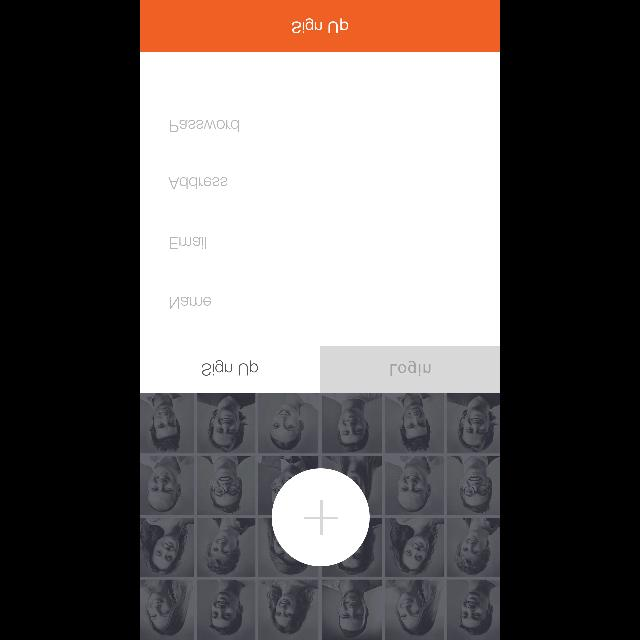icon: (272, 468, 370, 566)
image: (140, 393, 500, 639)
input: (170, 228, 500, 250), (170, 110, 500, 132), (168, 170, 500, 190), (170, 288, 500, 308)
text: (202, 359, 258, 376), (170, 120, 240, 132), (168, 177, 228, 190), (169, 297, 211, 309), (170, 237, 207, 250)
textbutton: (140, 1, 500, 52), (320, 346, 500, 394)
